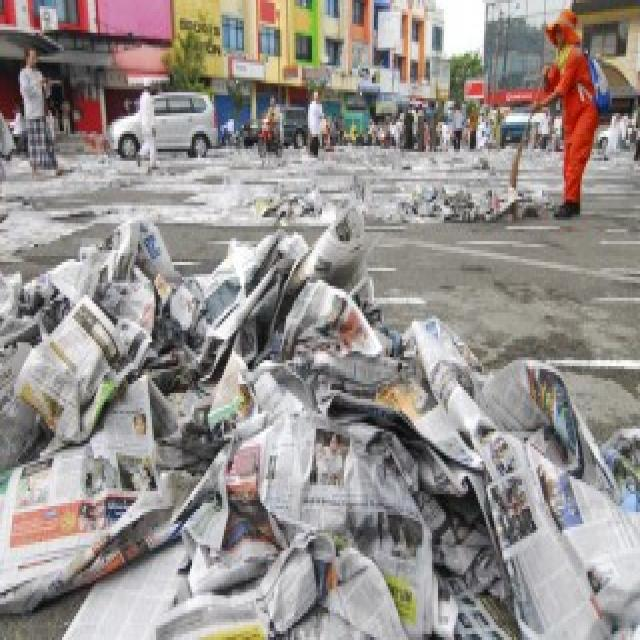Kertas: (464, 405, 638, 640), (12, 459, 209, 600), (230, 414, 405, 570), (19, 303, 170, 430), (408, 304, 534, 430), (328, 190, 397, 419), (224, 233, 322, 381), (75, 204, 210, 286)
